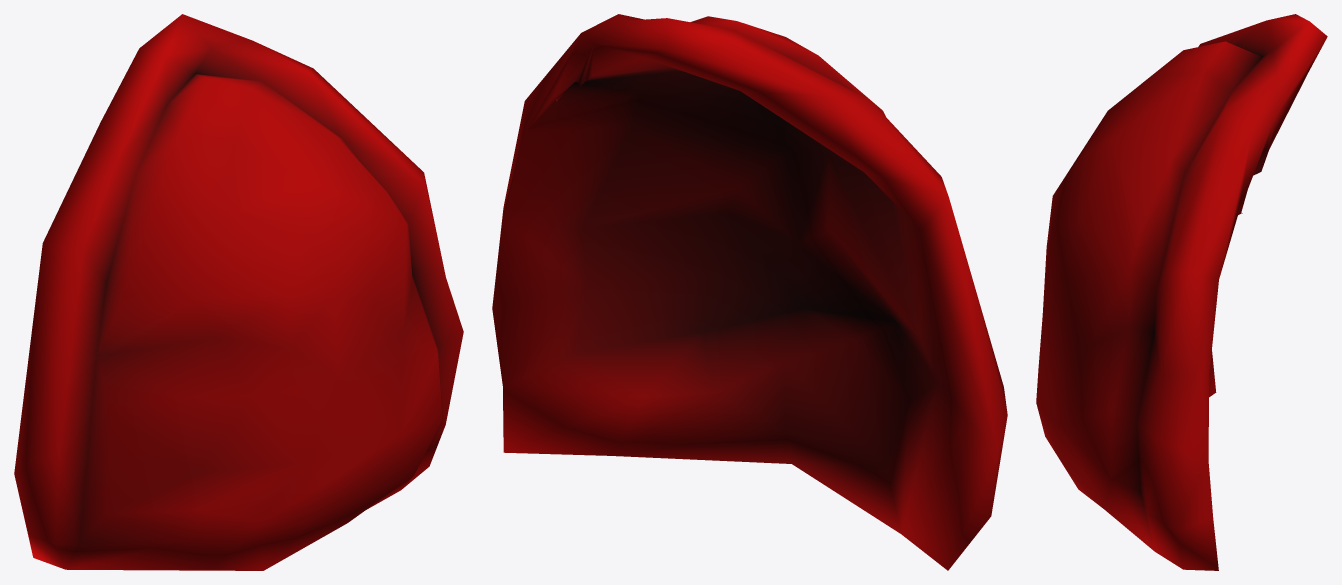
File: SM_Ebonut_shell_01.fbx
3 views of the same model, side by side, from view 1: azimuth 30°, elevation 25°; view 2: azimuth 150°, elevation 25°; view 3: azimuth 270°, elevation 25° (orthographic). The views are drawn at different scales.
Visible parts, largest first — view 1: SM_Ebonut_shell_01; view 2: SM_Ebonut_shell_01; view 3: SM_Ebonut_shell_01.
Boxes of the visible parts, x1,y1,x2,y2 form: SM_Ebonut_shell_01: (14,14,463,570); SM_Ebonut_shell_01: (492,14,1007,570); SM_Ebonut_shell_01: (1036,14,1327,570).
Size of the model in its own units: 69.84 by 71.87 by 40.38.
